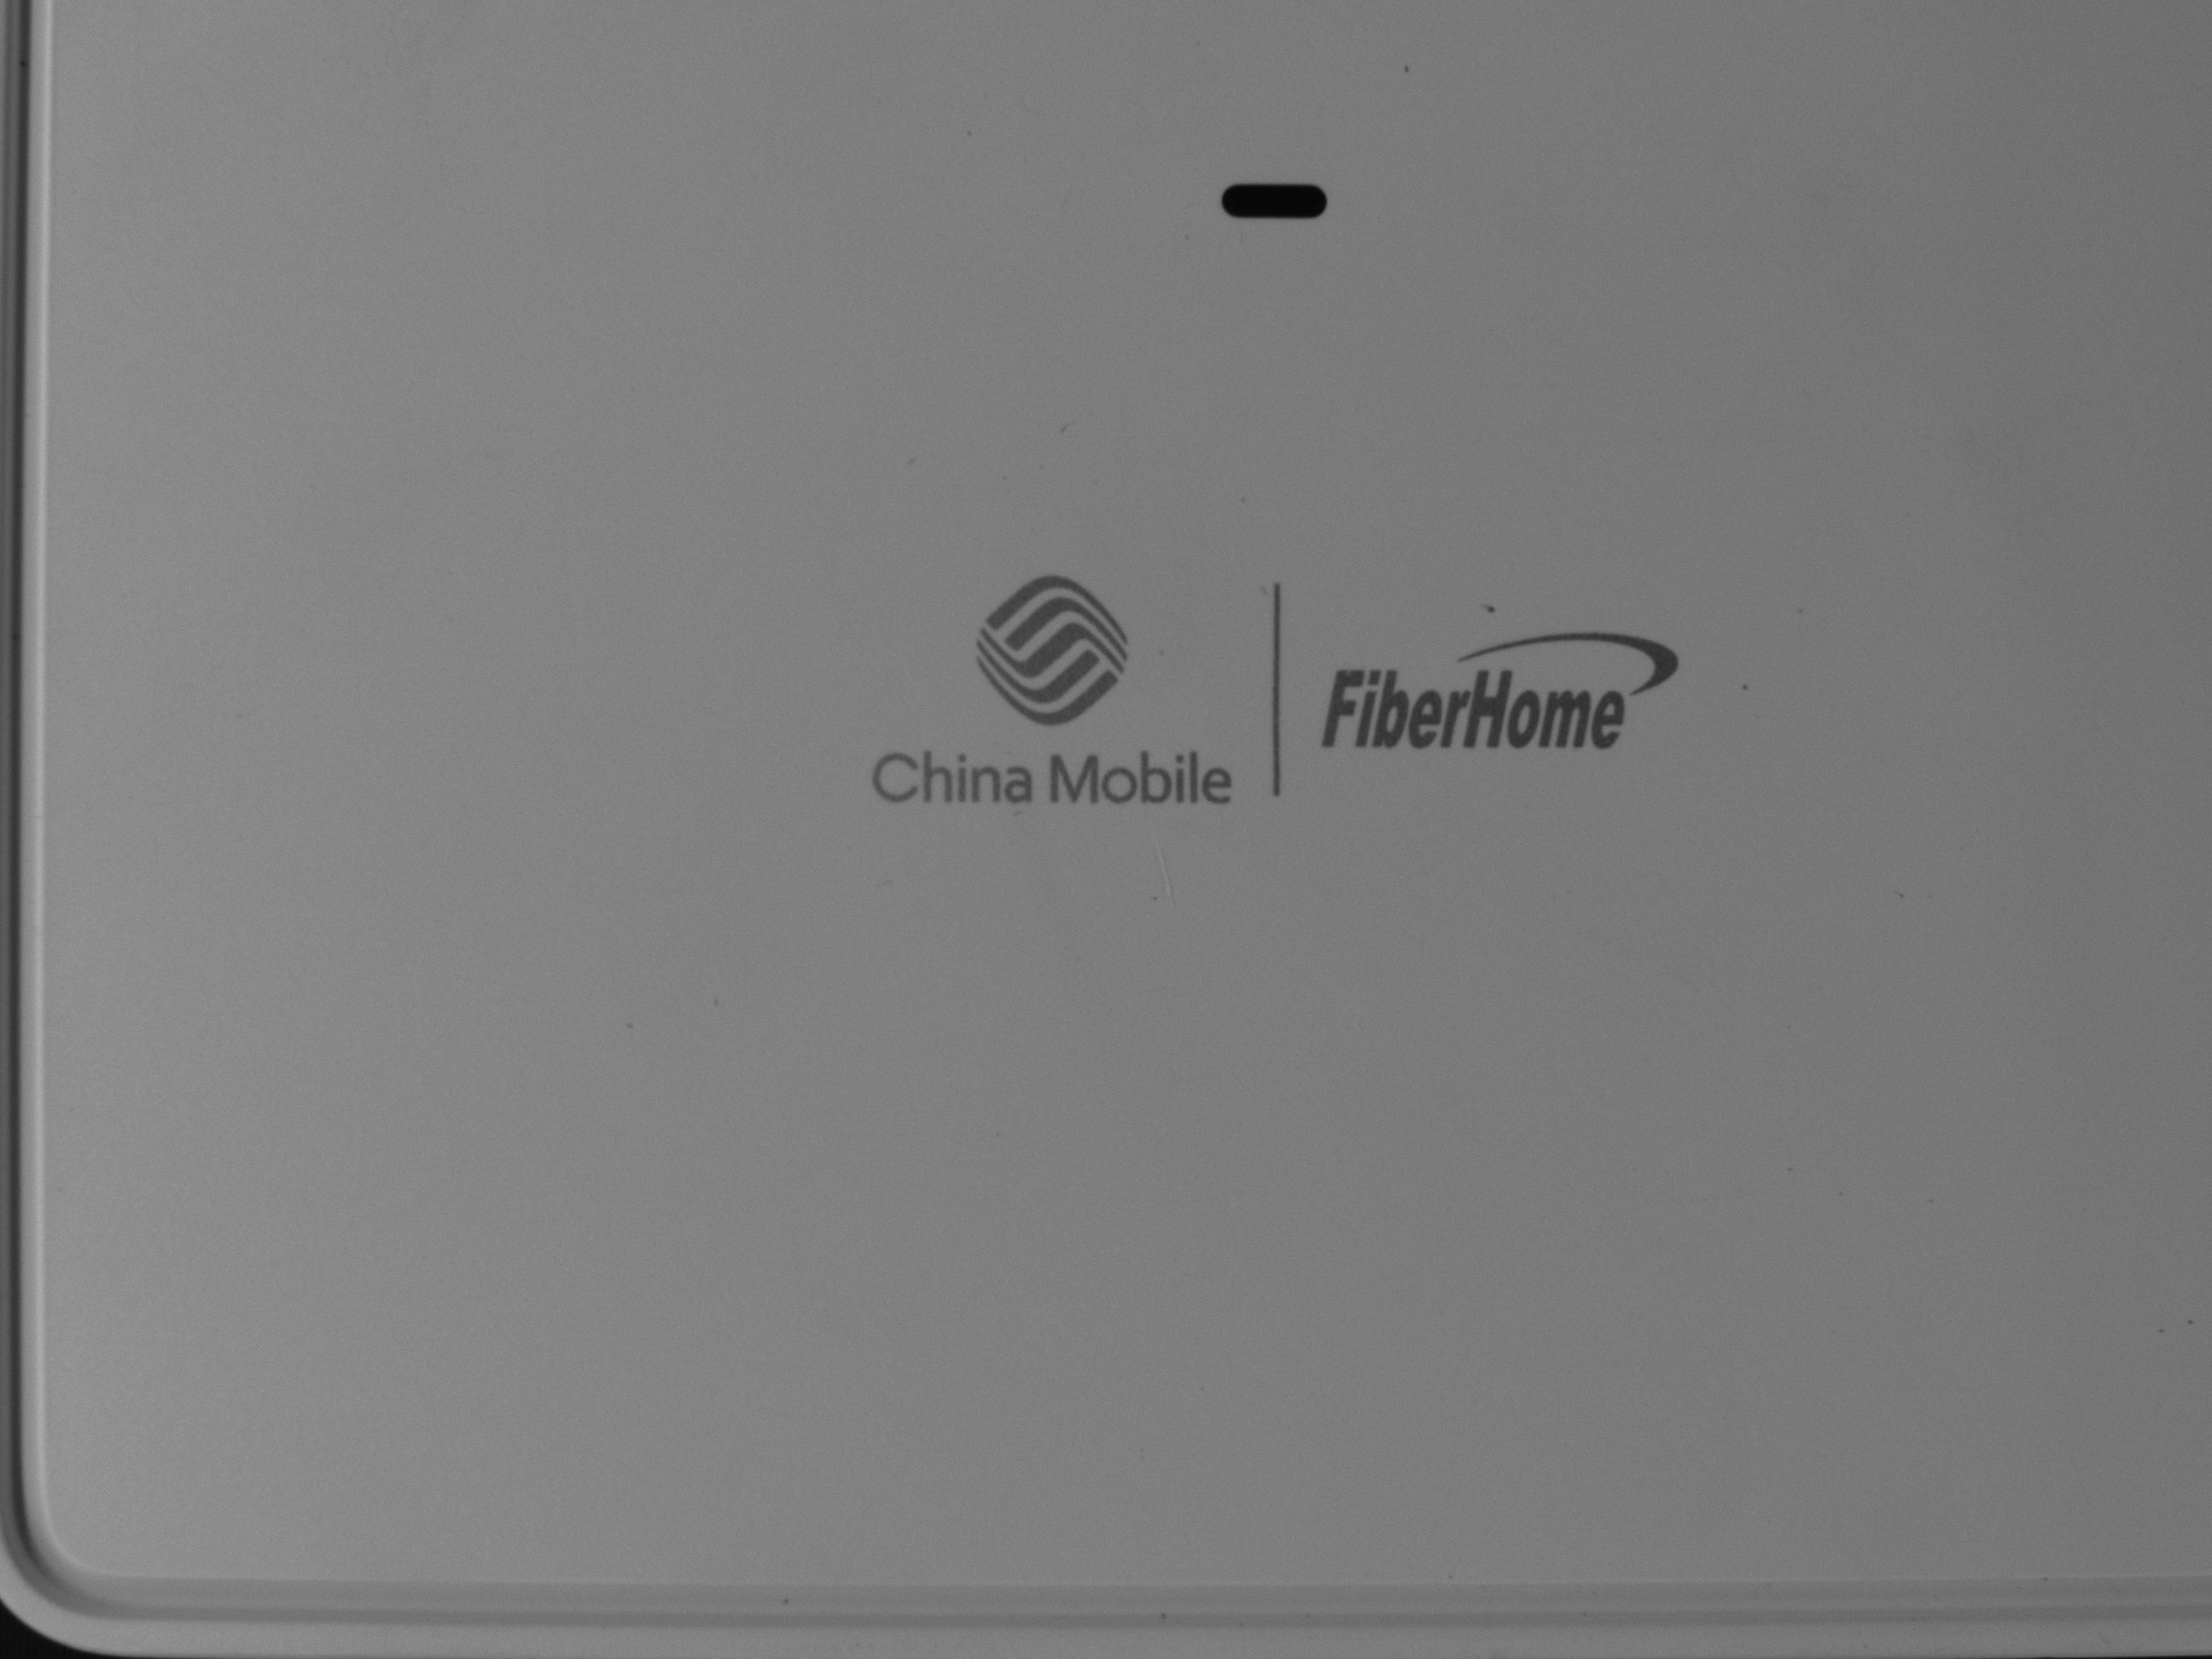BX_HG6371FMobileFiberhome: (840, 530, 1695, 838)
